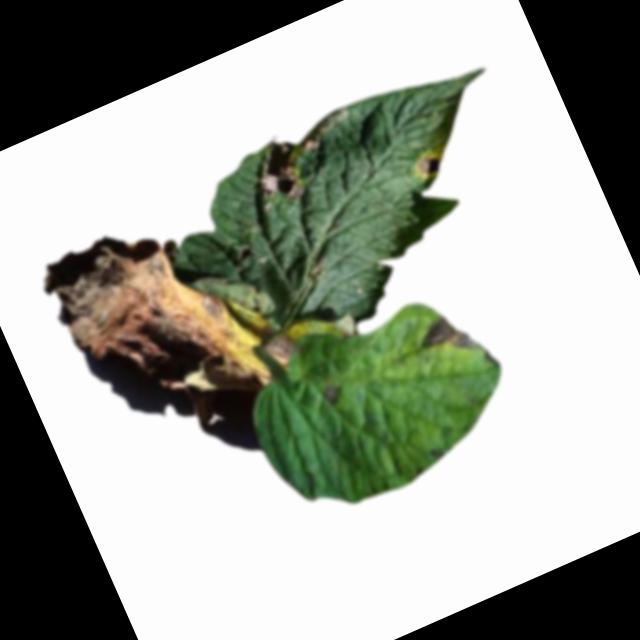Early_blight: (28, 183, 303, 452), (246, 133, 320, 211), (407, 305, 481, 373), (409, 149, 445, 184), (319, 383, 344, 410)
